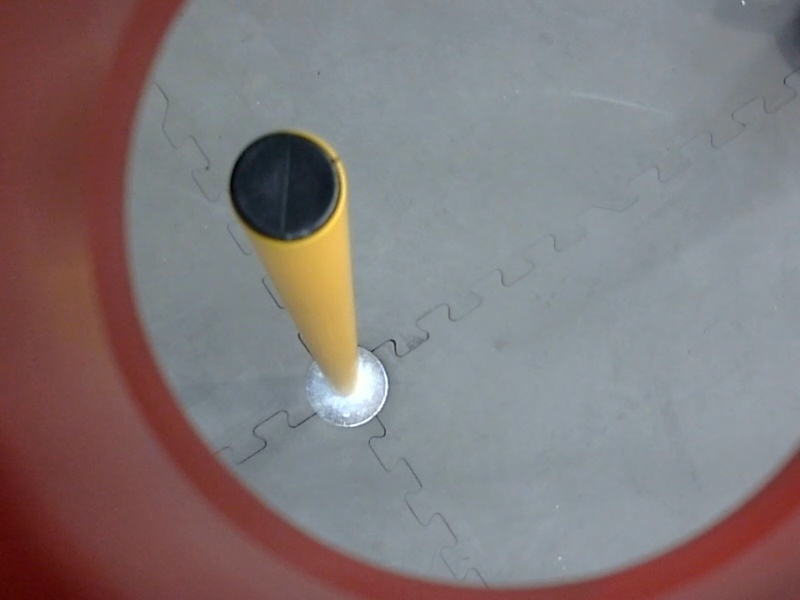tip: (222, 122, 354, 251)
